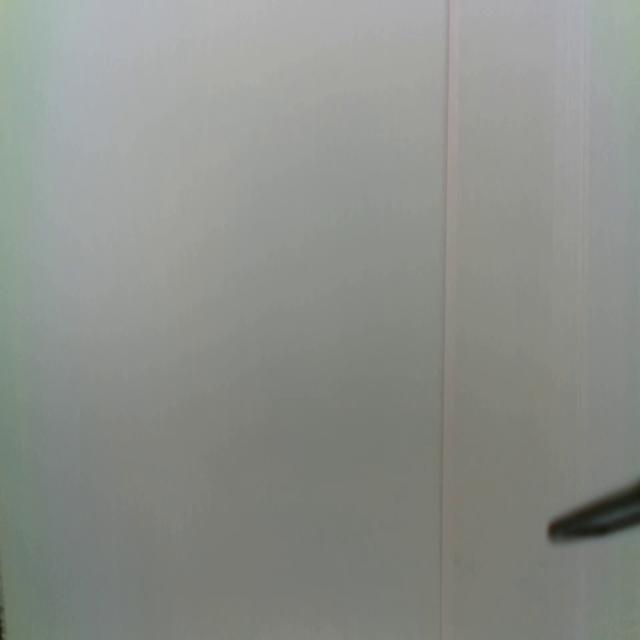crease: (438, 0, 453, 640), (575, 0, 592, 504)
